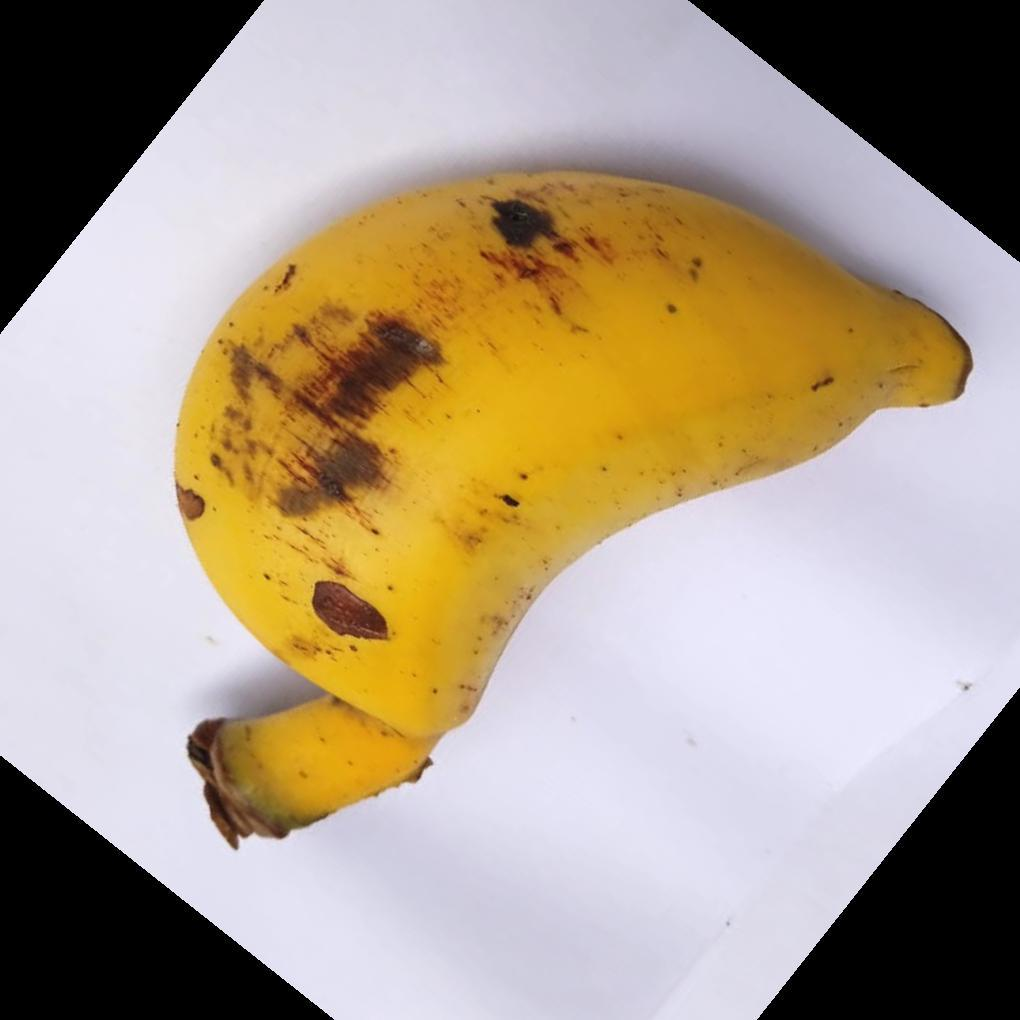Banana Ripe: (172, 174, 977, 844)
